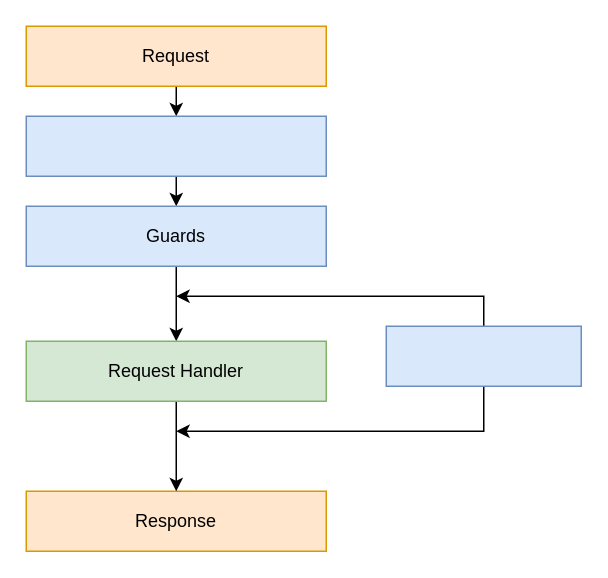
Some shapes in this 608 by 578 pixel diagram are drawn without their labels. Each missing label, with the centre of its shape:
"Interceptor" goes at [483,355].
"Middleware" goes at [175,145].
